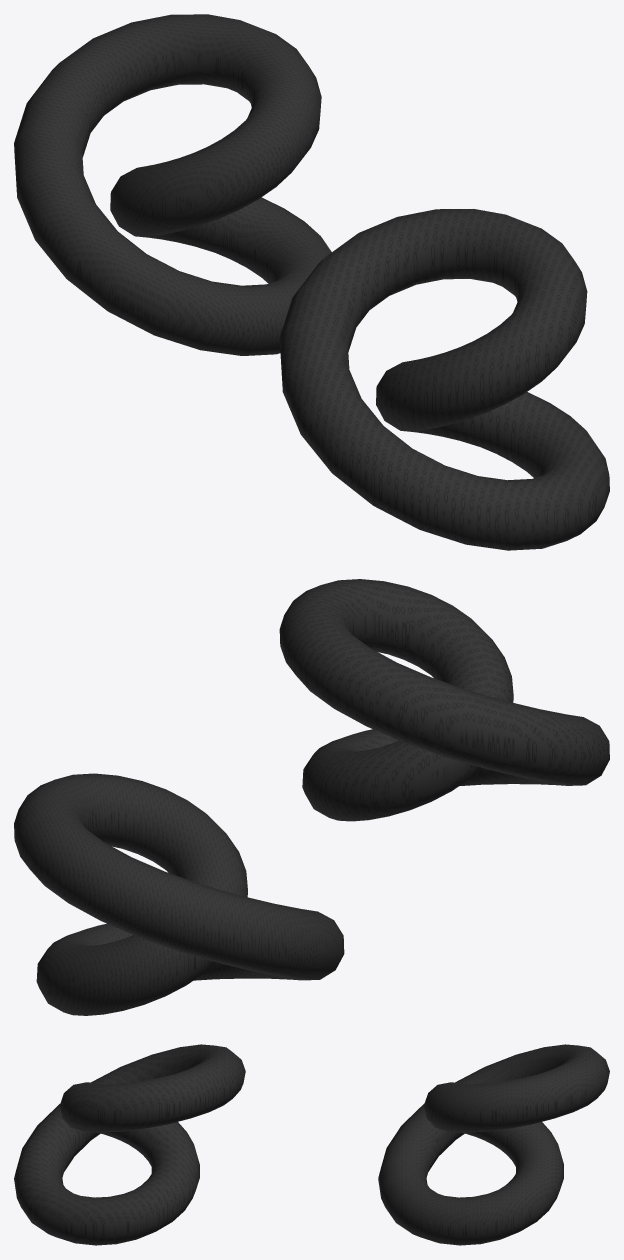
3 views of the same model, one above another, from view 1: azimuth 30°, elevation 25°; view 2: azimuth 150°, elevation 25°; view 3: azimuth 270°, elevation 25° (orthographic). The views are drawn at different scales.
Visible parts, largest first — view 1: Matter, Glossy; view 2: Glossy, Matter; view 3: Matter, Glossy.
Boxes of the visible parts, bbox=[...] form: Matter: bbox=[279, 209, 609, 550]; Glossy: bbox=[14, 14, 331, 355]; Glossy: bbox=[14, 773, 344, 1015]; Matter: bbox=[279, 579, 609, 821]; Matter: bbox=[14, 1044, 245, 1245]; Glossy: bbox=[378, 1044, 609, 1245].
Bounding box in the file's own units: 16.31 × 13.52 × 43.9.
Materials: 2 (2 with a texture image).
